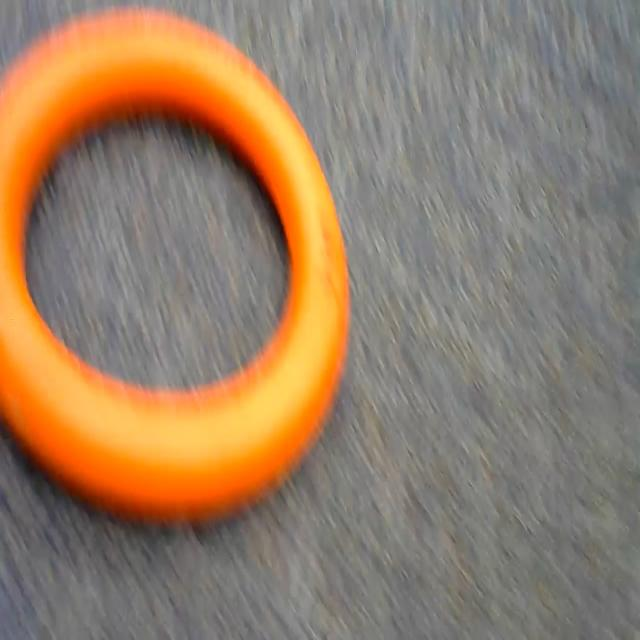note: (0, 0, 348, 521)
